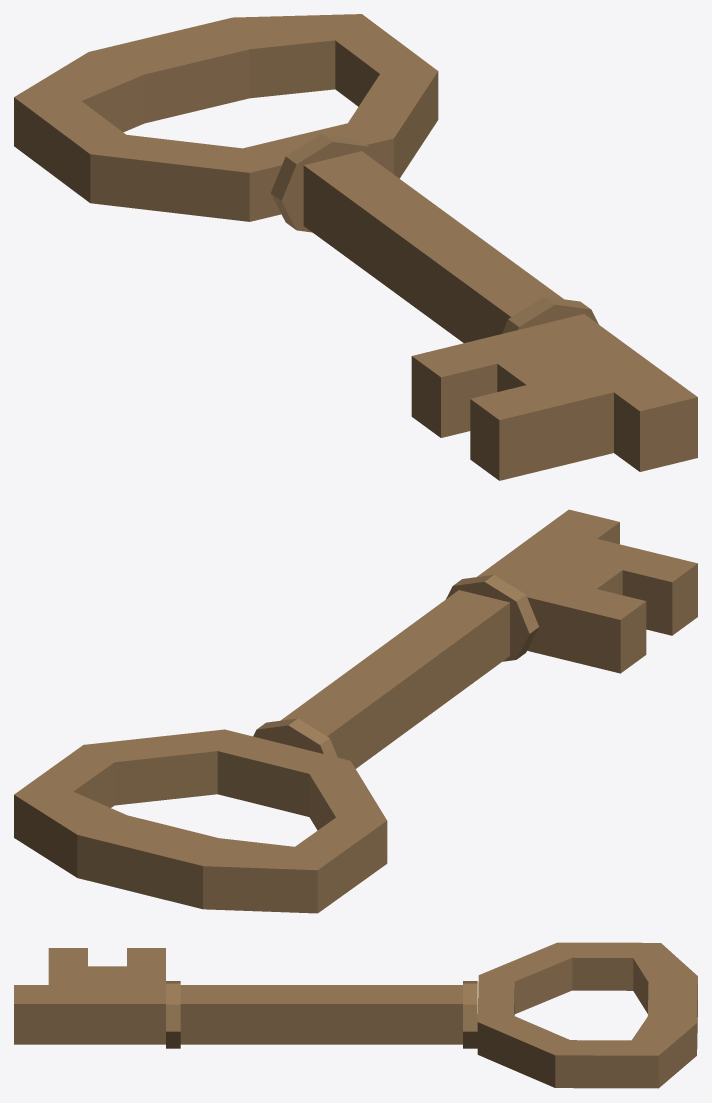
File: Key.fbx
3 renders of one model, top to bottom at view 1: azimuth 30°, elevation 25°; view 2: azimuth 150°, elevation 25°; view 3: azimuth 270°, elevation 25°, orthographic. The views are drawn at different scales.
Visible parts, largest first — view 1: Key; view 2: Key; view 3: Key.
Boxes of the visible parts, x1=… form: Key: x1=14, y1=14, x2=697, y2=480; Key: x1=14, y1=509, x2=697, y2=913; Key: x1=14, y1=942, x2=697, y2=1088.
Size of the model in its own units: 29.93 by 7.69 by 76.39.
